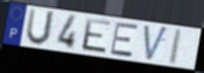4: (55, 14, 78, 52)
E: (81, 16, 114, 55), (109, 22, 140, 59)
I: (166, 27, 184, 67)
U: (24, 7, 57, 48)
V: (142, 24, 170, 64)
